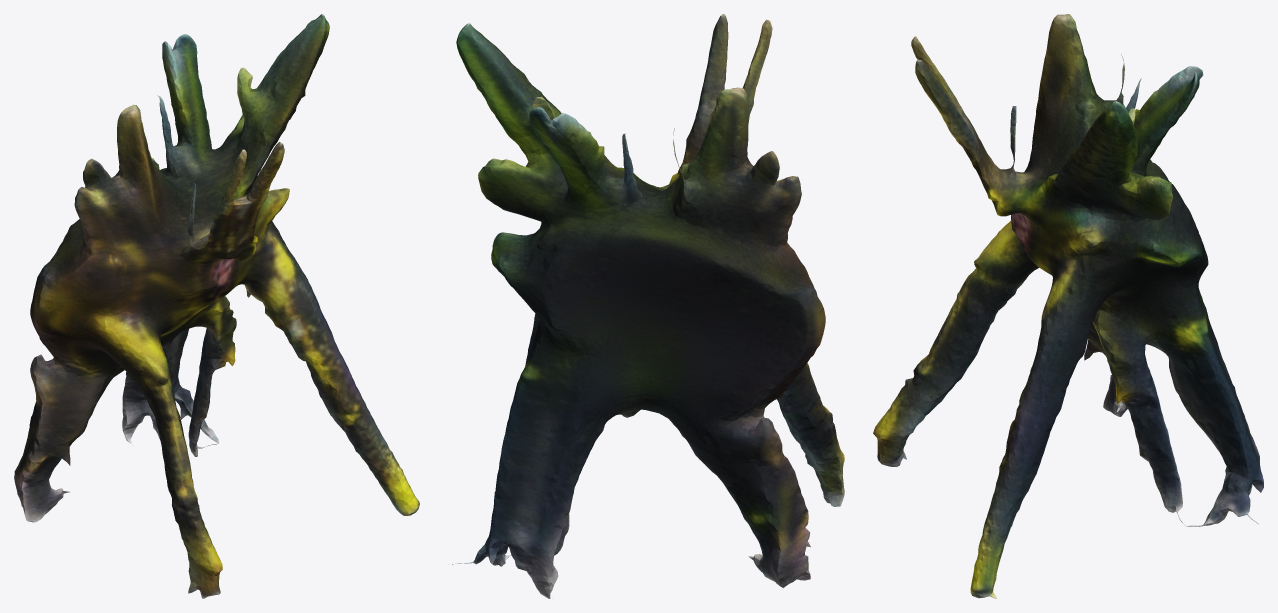
The model's file is monstruo.glb.
3 renders of one model, left to right at view 1: azimuth 30°, elevation 25°; view 2: azimuth 150°, elevation 25°; view 3: azimuth 270°, elevation 25°, orthographic. The views are drawn at different scales.
Bounding box in the file's own units: 0.7187 × 0.9285 × 0.6794.
Materials: 1 (1 with a texture image).
